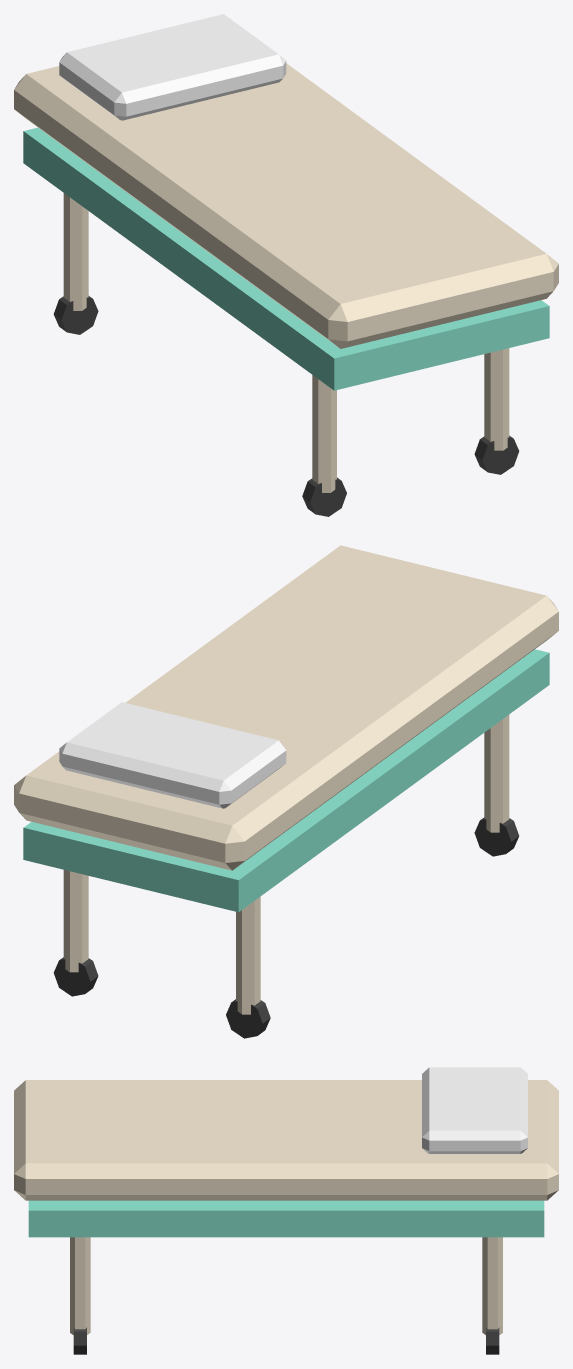
3 views of the same model, one above another, from view 1: azimuth 30°, elevation 25°; view 2: azimuth 150°, elevation 25°; view 3: azimuth 270°, elevation 25° (orthographic). The views are drawn at different scales.
Visible parts, largest first — view 1: Mattress, Base, Pillow, Leg.001, Leg, Leg.002, Wheel.002, Wheel.001, Wheel; view 2: Mattress, Base, Pillow, Leg, Leg.001, Leg.003, Wheel, Wheel.003, Wheel.001; view 3: Mattress, Base, Pillow, Leg.002, Leg.003, Wheel.002, Wheel.003.
Part boxes in pixels (x1,y1,x2,y2): Mattress: (14,63,558,348); Base: (23,127,549,390); Pillow: (59,14,286,120); Leg.001: (63,193,88,310); Leg: (312,375,336,492); Leg.002: (484,348,509,450); Wheel.002: (474,435,519,474); Wheel.001: (53,296,98,334); Wheel: (302,477,346,516); Mattress: (14,545,558,870); Base: (23,649,549,912); Pillow: (59,702,286,808); Leg: (484,715,509,832); Leg.001: (236,896,260,1014); Leg.003: (63,870,88,972); Wheel: (474,817,519,856); Wheel.003: (53,957,98,996); Wheel.001: (226,999,270,1038); Mattress: (14,1080,558,1200); Base: (28,1200,544,1237); Pillow: (422,1067,527,1153); Leg.002: (70,1237,90,1334); Leg.003: (482,1237,502,1334); Wheel.002: (73,1327,86,1354); Wheel.003: (486,1327,499,1354).
Bounding box in the file's own units: 0.75 × 0.825 × 1.85.
Materials: 1 (1 with a texture image).
